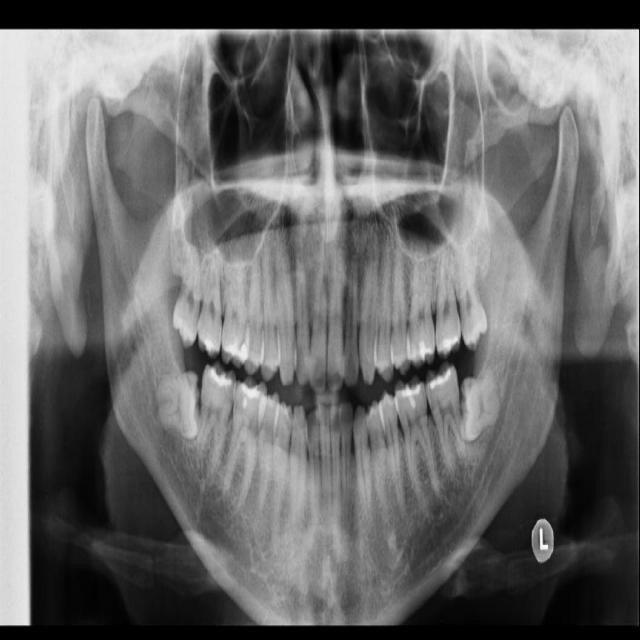Filling: (236, 378, 261, 408), (427, 366, 455, 390), (223, 337, 248, 362), (397, 383, 421, 409), (410, 341, 432, 364), (209, 367, 232, 388), (436, 336, 459, 354), (201, 336, 219, 355)
impacted tooth: (452, 238, 488, 346), (148, 370, 199, 436), (459, 369, 502, 441)
